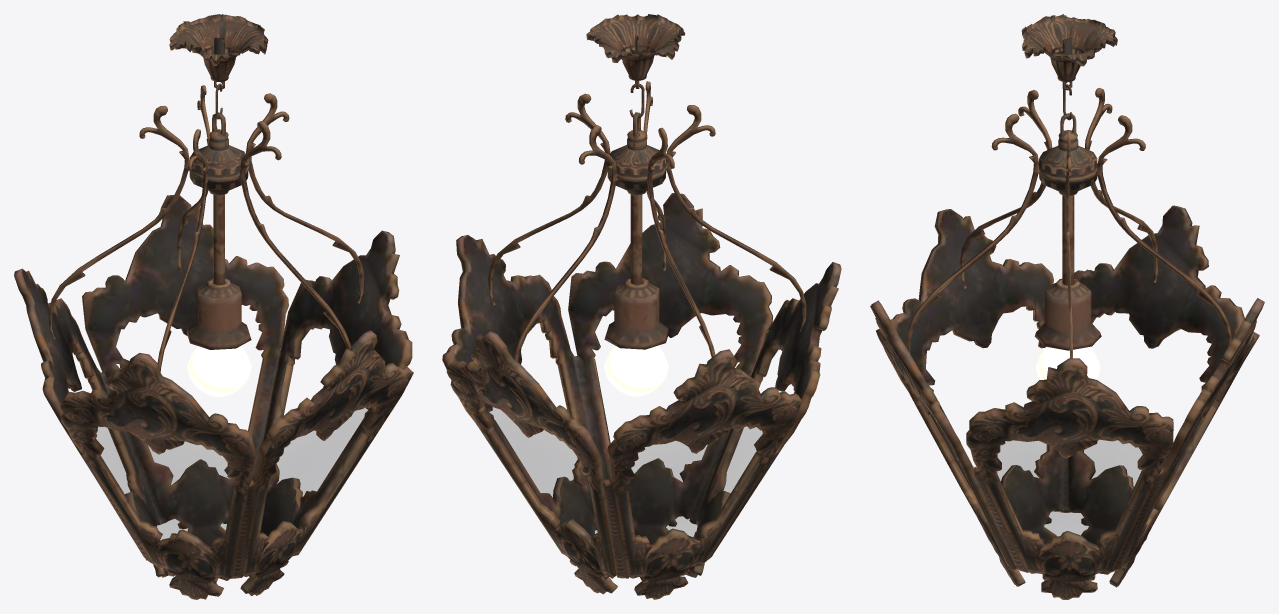
The model's file is lantern_chandelier_01.glb.
3 renders of one model, left to right at view 1: azimuth 30°, elevation 25°; view 2: azimuth 150°, elevation 25°; view 3: azimuth 270°, elevation 25°, orthographic.
Parts seen in each view (by area): view 1: lantern_chandelier_01; view 2: lantern_chandelier_01; view 3: lantern_chandelier_01.
Part boxes in pixels (x1=…): lantern_chandelier_01: x1=14, y1=14, x2=413, y2=599; lantern_chandelier_01: x1=442, y1=14, x2=841, y2=599; lantern_chandelier_01: x1=870, y1=14, x2=1264, y2=599.
Size of the model in its own units: 0.5792 by 0.8776 by 0.5746.
Materials: 3 (2 with a texture image).
